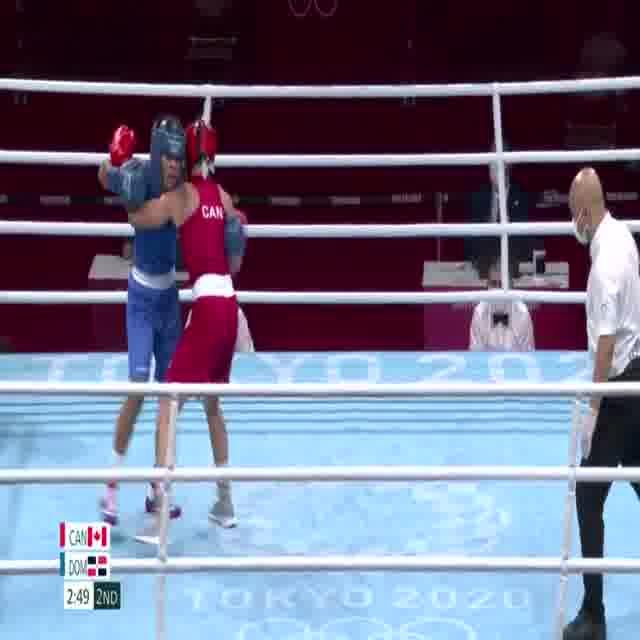blue-player: (94, 112, 245, 524)
red-player: (106, 116, 250, 549)
referee: (559, 164, 640, 640)
